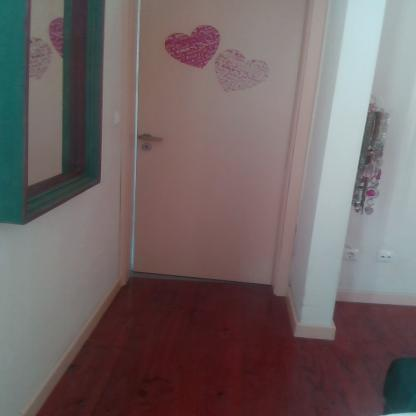door: (136, 0, 289, 285)
lever: (138, 136, 167, 145)
